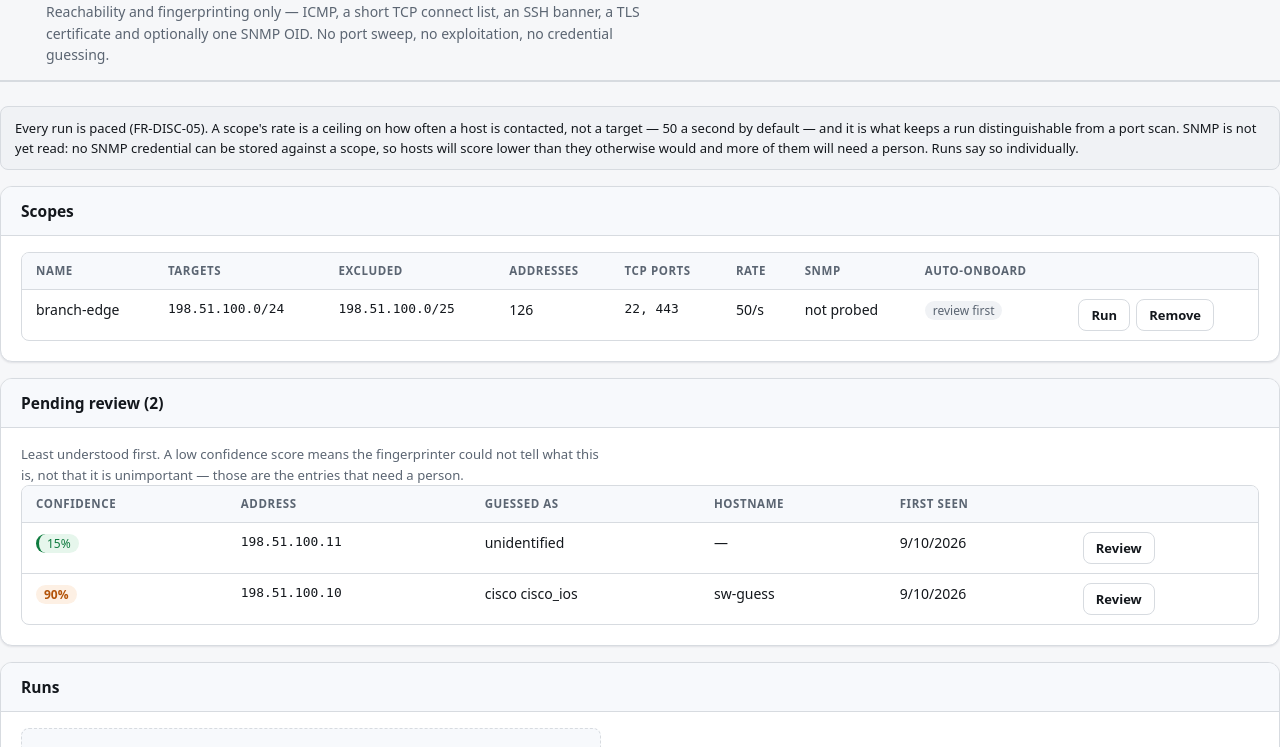
Scenario: DiscoveryPage › the review queue › offers the fingerprinter guess as an editable suggestion
Check: the text "198.51.100.10" is shown, box [227,574,471,624]
Click the button "Review" in the row of "90".
click(1119, 599)  # box [1083,583,1155,615]
(page scrolled)
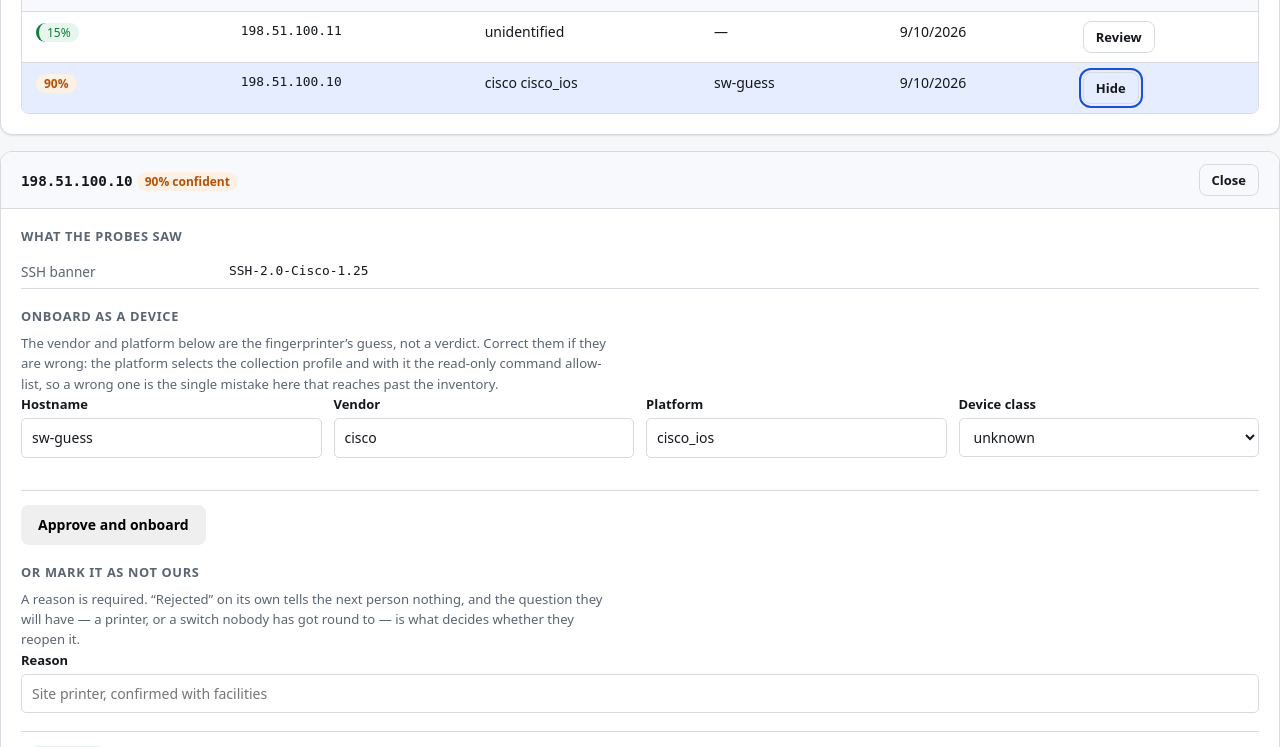
Check: the field labelled "Platform" holds "cisco_ios", box [646,418,946,458]
Check: the text "selects the collection profile" is shown, box [21,334,606,393]
